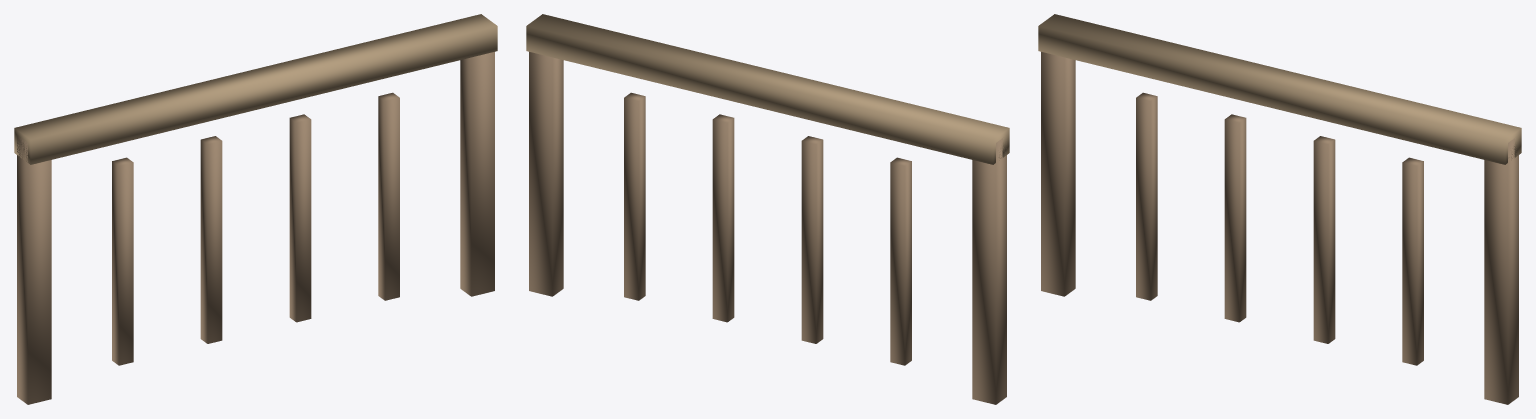
Rendered from court_rail__wide.glb.
3 renders of one model, left to right at view 1: azimuth 30°, elevation 25°; view 2: azimuth 150°, elevation 25°; view 3: azimuth 330°, elevation 25°, orthographic.
Visible parts, largest first — view 1: world; view 2: world; view 3: world.
Part boxes in pixels (box(x1,y1,x2,y2)): world: box(14, 14, 497, 404); world: box(526, 14, 1009, 404); world: box(1038, 14, 1521, 404).
Bounding box in the file's own units: 1.96 × 1.07 × 0.12.
